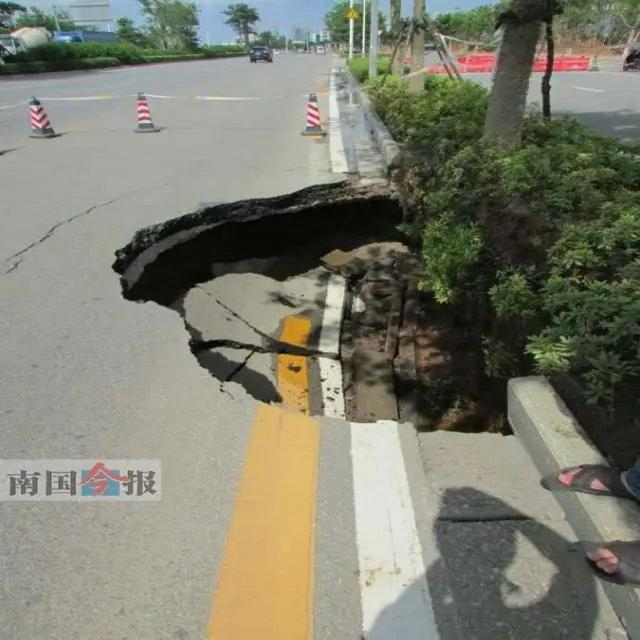Pothole: (113, 180, 533, 440)
